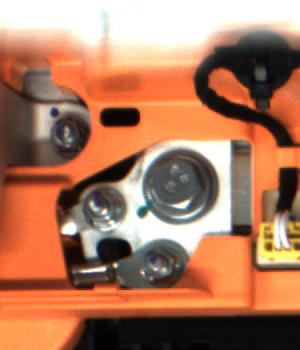nut_b: (136, 145, 219, 233)
screw_s: (43, 113, 84, 158), (84, 189, 119, 224), (143, 251, 178, 283)
